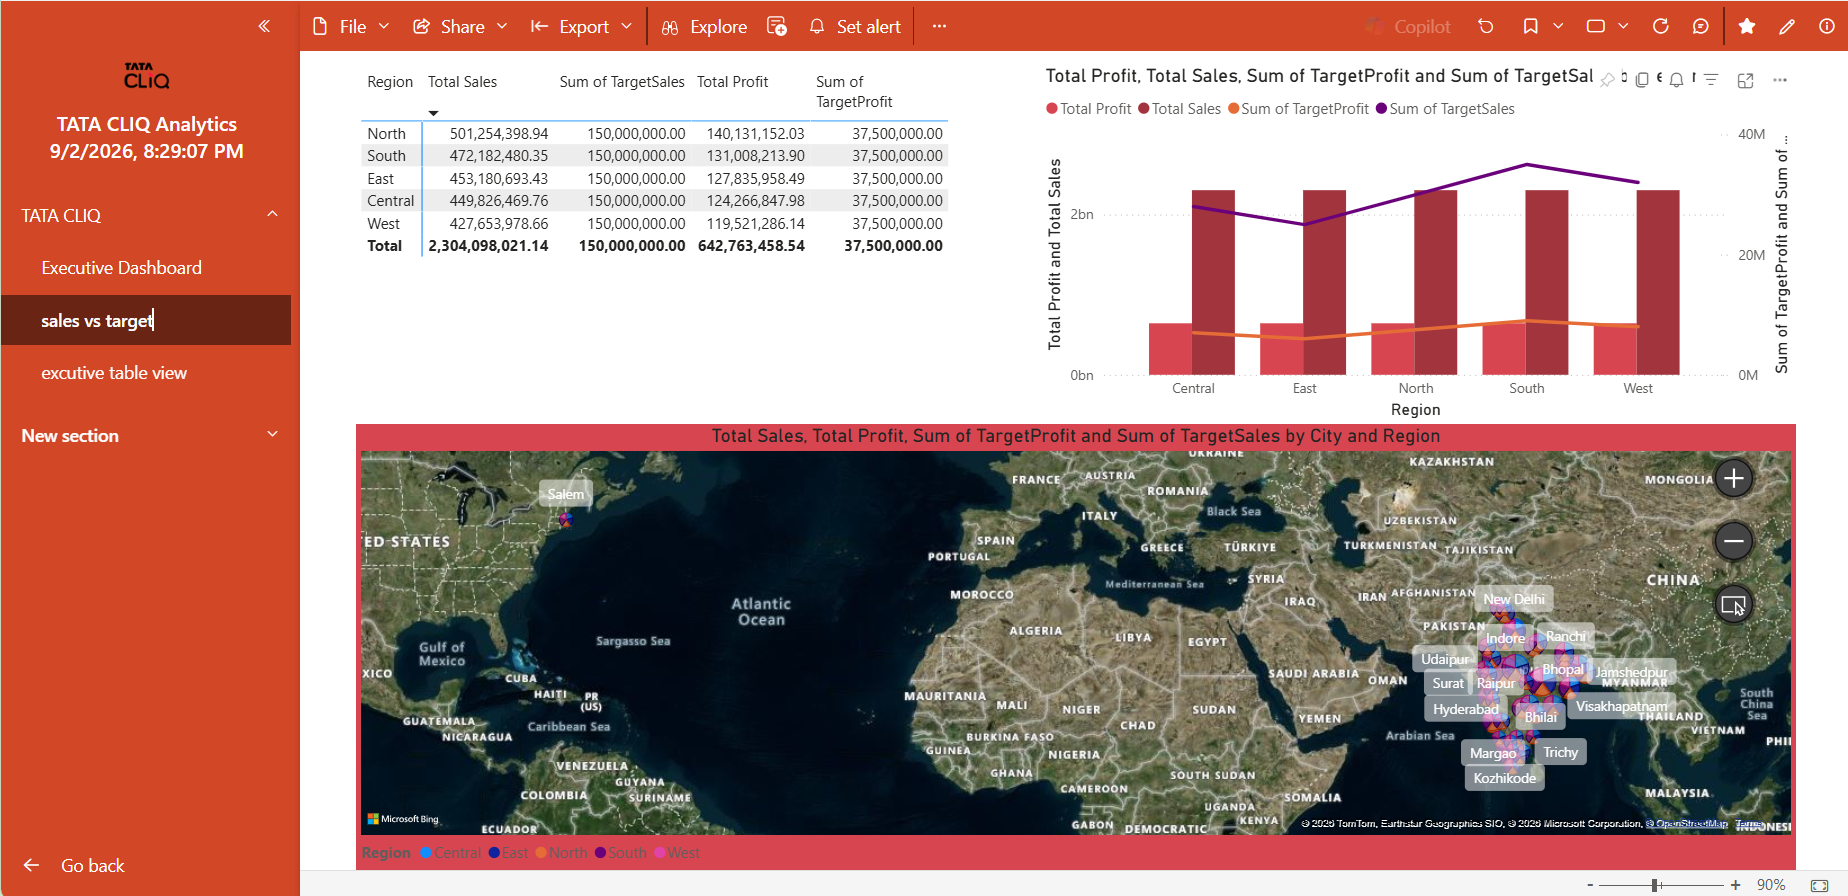

This screenshot's page, from the dashboard's own definition file:
{"tool":"powerbi","page":{"name":"sales vs target","canvas":[1280,720],"ordinal":1},"visuals":[{"type":"pivotTable","fields":{"Rows":["DimCustomer.Region"],"Values":["FactSales.Total Sales","Sum(RegionTarget.TargetSales)","FactSales.Total Profit","Sum(RegionTarget.TargetProfit)"]},"box":[0,0,608,176],"z":0},{"type":"lineClusteredColumnComboChart","fields":{"Category":["RegionTarget.Region"],"Y":["FactSales.Total Profit","FactSales.Total Sales"],"Y2":["Sum(RegionTarget.TargetProfit)","Sum(RegionTarget.TargetSales)"]},"box":[608,0,672,320],"z":1000},{"type":"map","fields":{"Size":["FactSales.Total Sales"],"Series":["RegionTarget.Region"],"Category":["DimCustomer.City"]},"box":[0,320,1280,400],"z":2000}]}

Visuals, with their boxes on the page's 1280x720 design canvas (x1, y1, x2, y2). These are canvas units, not pixel positions in the 1848x896 screenshot, which may show the page scaled, cropped or inside an application window:
pivotTable - DimCustomer.Region x FactSales.Total Sales: 0/0/608/176
lineClusteredColumnComboChart - RegionTarget.Region x FactSales.Total Profit: 608/0/1280/320
map - FactSales.Total Sales x RegionTarget.Region: 0/320/1280/720
